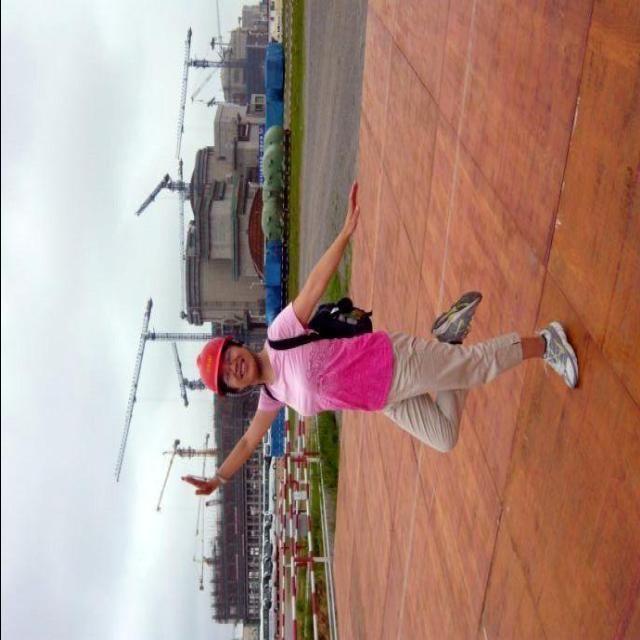helmet: (194, 320, 228, 401)
